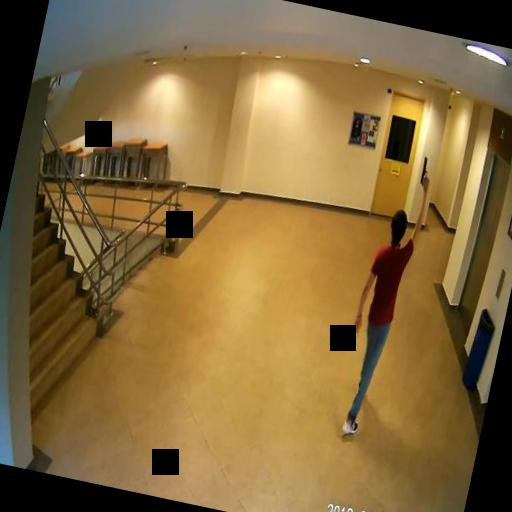Handgun: (416, 154, 434, 188)
